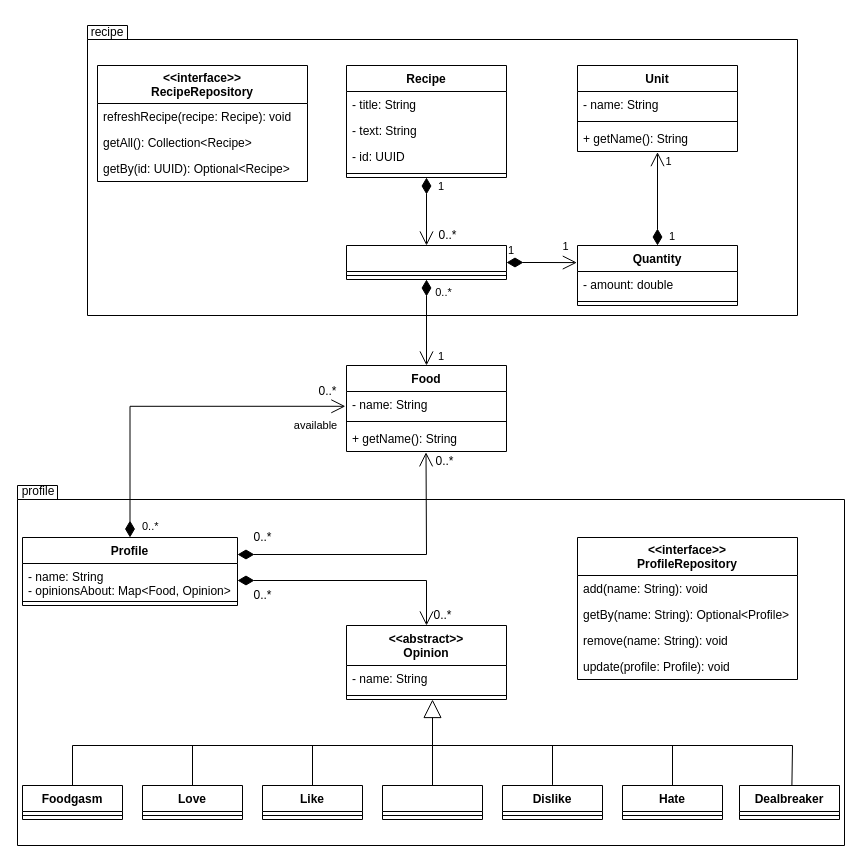
This 862x863 diagram has some shape labels left out. The centre of each missing label's shape, as x and y in pixels:
"Indifferent" goes at [432,802].
"Ingredient" goes at [426,262].
